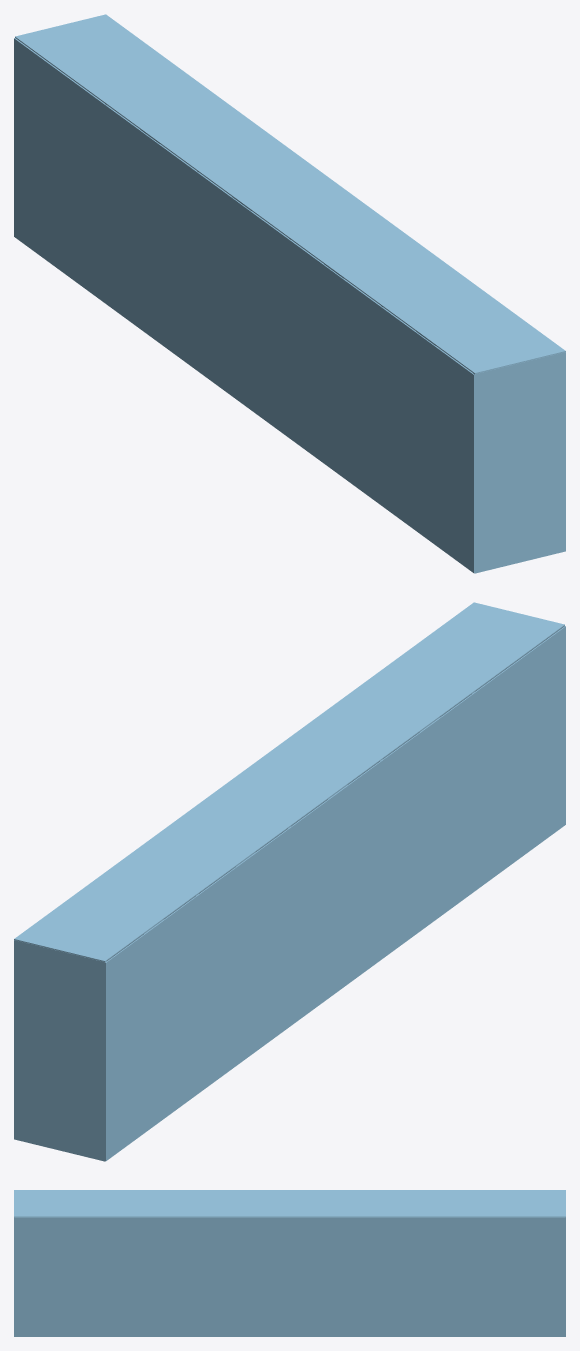
File: REDHUS_demo_side_bwt.dae
The picture shows the model from 3 angles, top to bottom: view 1: azimuth 30°, elevation 25°; view 2: azimuth 150°, elevation 25°; view 3: azimuth 270°, elevation 25°; orthographic projection. The views are drawn at different scales.
Visible parts, largest first — view 1: Part 1 (×3); view 2: Part 1 (×3); view 3: Part 1 (×3).
Boxes of the visible parts, bbox=[...] form: Part 1 (×3): bbox=[14, 14, 565, 573]; Part 1 (×3): bbox=[14, 602, 565, 1161]; Part 1 (×3): bbox=[14, 1190, 565, 1336].
Size of the model in its own units: 2.43 by 21.01 by 5.05.
